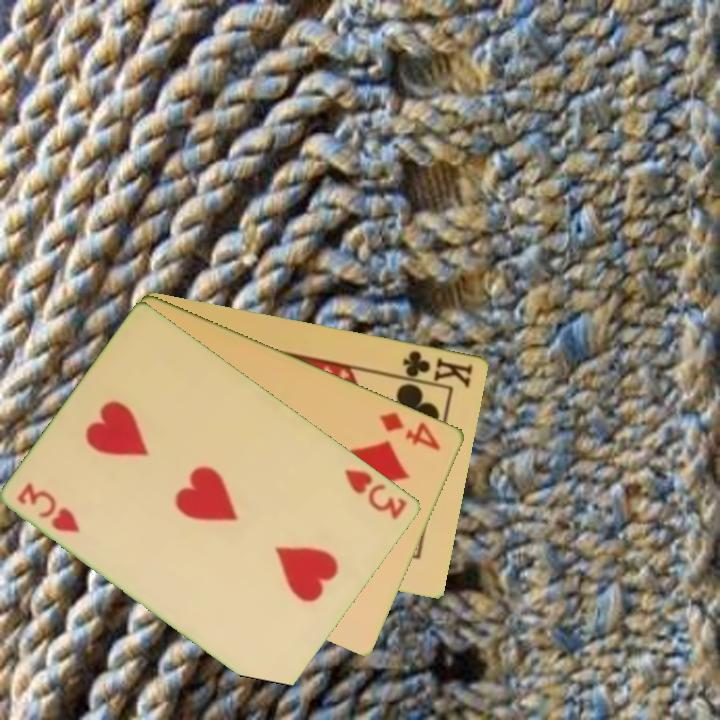3h: (341, 465, 411, 523), (14, 479, 84, 536)
4d: (376, 408, 444, 454)
Kc: (392, 346, 476, 391)
